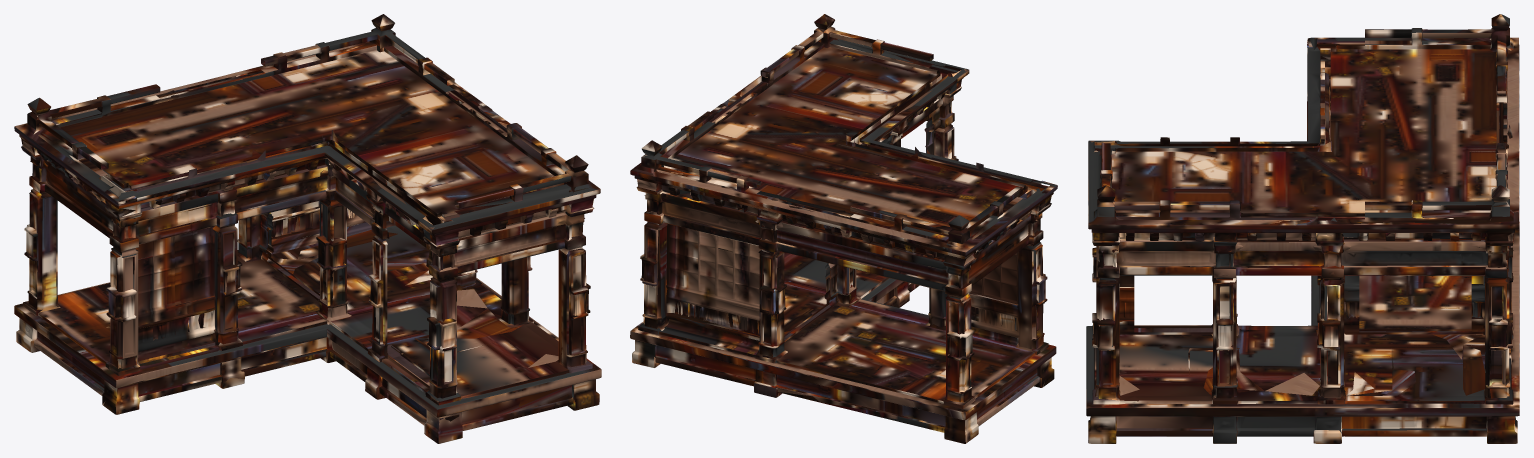
File: HallWayWithTurn1_Collision.fbx
The picture shows the model from 3 angles, left to right: view 1: azimuth 30°, elevation 25°; view 2: azimuth 150°, elevation 25°; view 3: azimuth 270°, elevation 25°; orthographic projection. The views are drawn at different scales.
Parts seen in each view (by area): view 1: HallWayWithTurn1_Collision; view 2: HallWayWithTurn1_Collision; view 3: HallWayWithTurn1_Collision.
Boxes of the visible parts, x1,y1,x2,y2 form: HallWayWithTurn1_Collision: (14,14,601,443); HallWayWithTurn1_Collision: (630,14,1057,443); HallWayWithTurn1_Collision: (1086,14,1519,443).
Size of the model in its own units: 7.88 by 4.95 by 7.71.
1 material, 1 textured.
